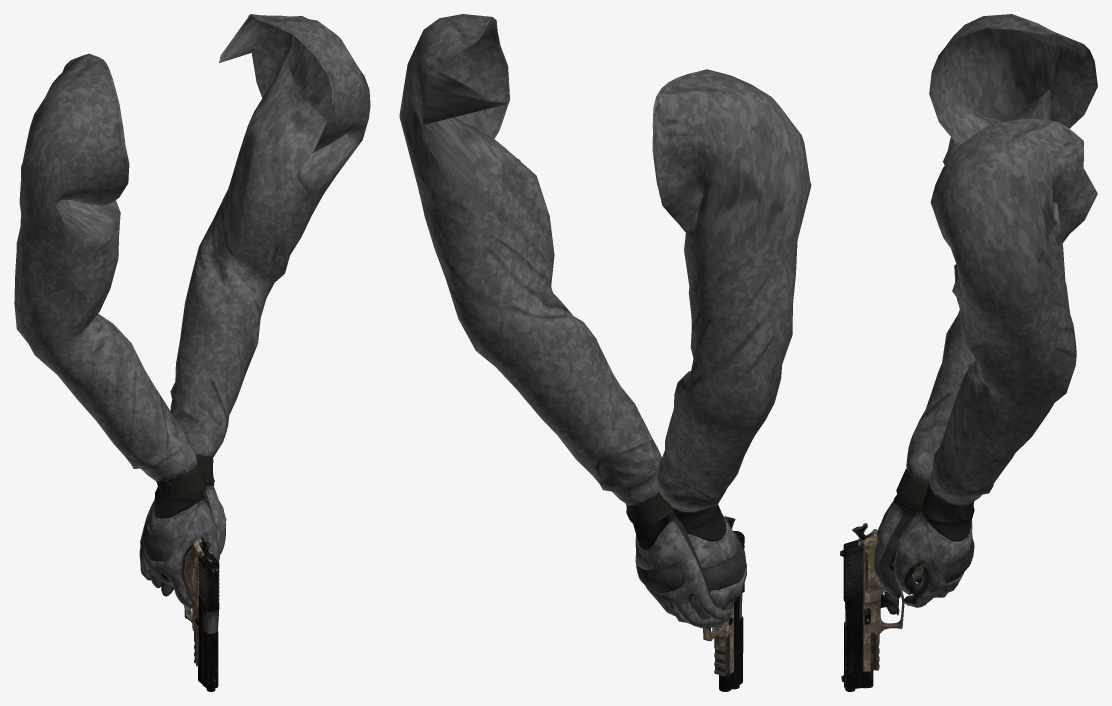
The model's file is sig.obj.
3 renders of one model, left to right at view 1: azimuth 30°, elevation 25°; view 2: azimuth 150°, elevation 25°; view 3: azimuth 270°, elevation 25°, orthographic. The views are drawn at different scales.
Visible parts, largest first — view 1: Lowpoly002, Pistolius001; view 2: Lowpoly002, Pistolius001; view 3: Lowpoly002, Pistolius001.
Part boxes in pixels (x1,y1,x2,y2): Lowpoly002: (14, 14, 370, 608); Pistolius001: (183, 535, 219, 691); Lowpoly002: (399, 14, 811, 628); Pistolius001: (703, 516, 744, 691); Lowpoly002: (874, 14, 1097, 614); Pistolius001: (840, 523, 923, 691).
Size of the model in its own units: 26.21 by 43.7 by 15.86.
